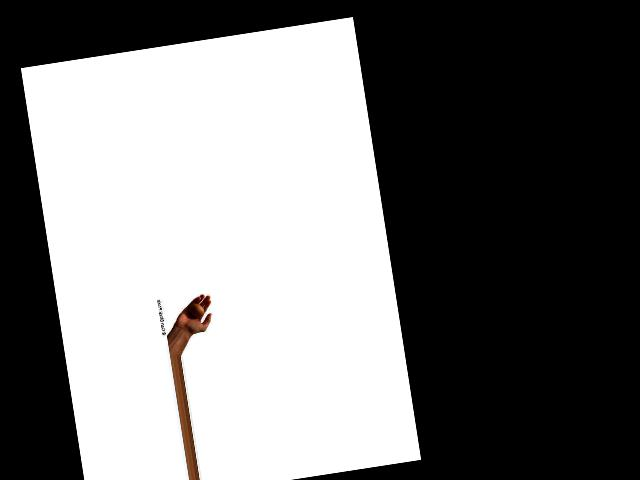egg: (189, 302, 204, 317)
